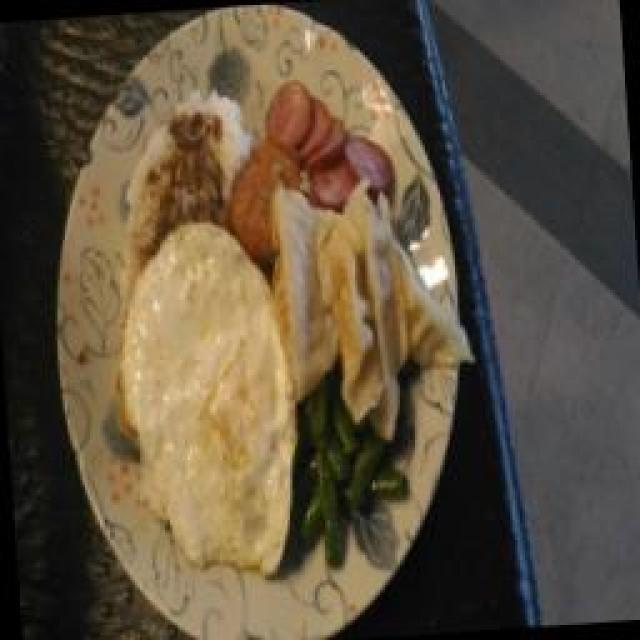chinese_sausage: (265, 70, 398, 205)
fried_dumplings: (262, 175, 480, 430)
fried_eggs: (108, 210, 311, 585)
rice: (125, 92, 253, 250)
